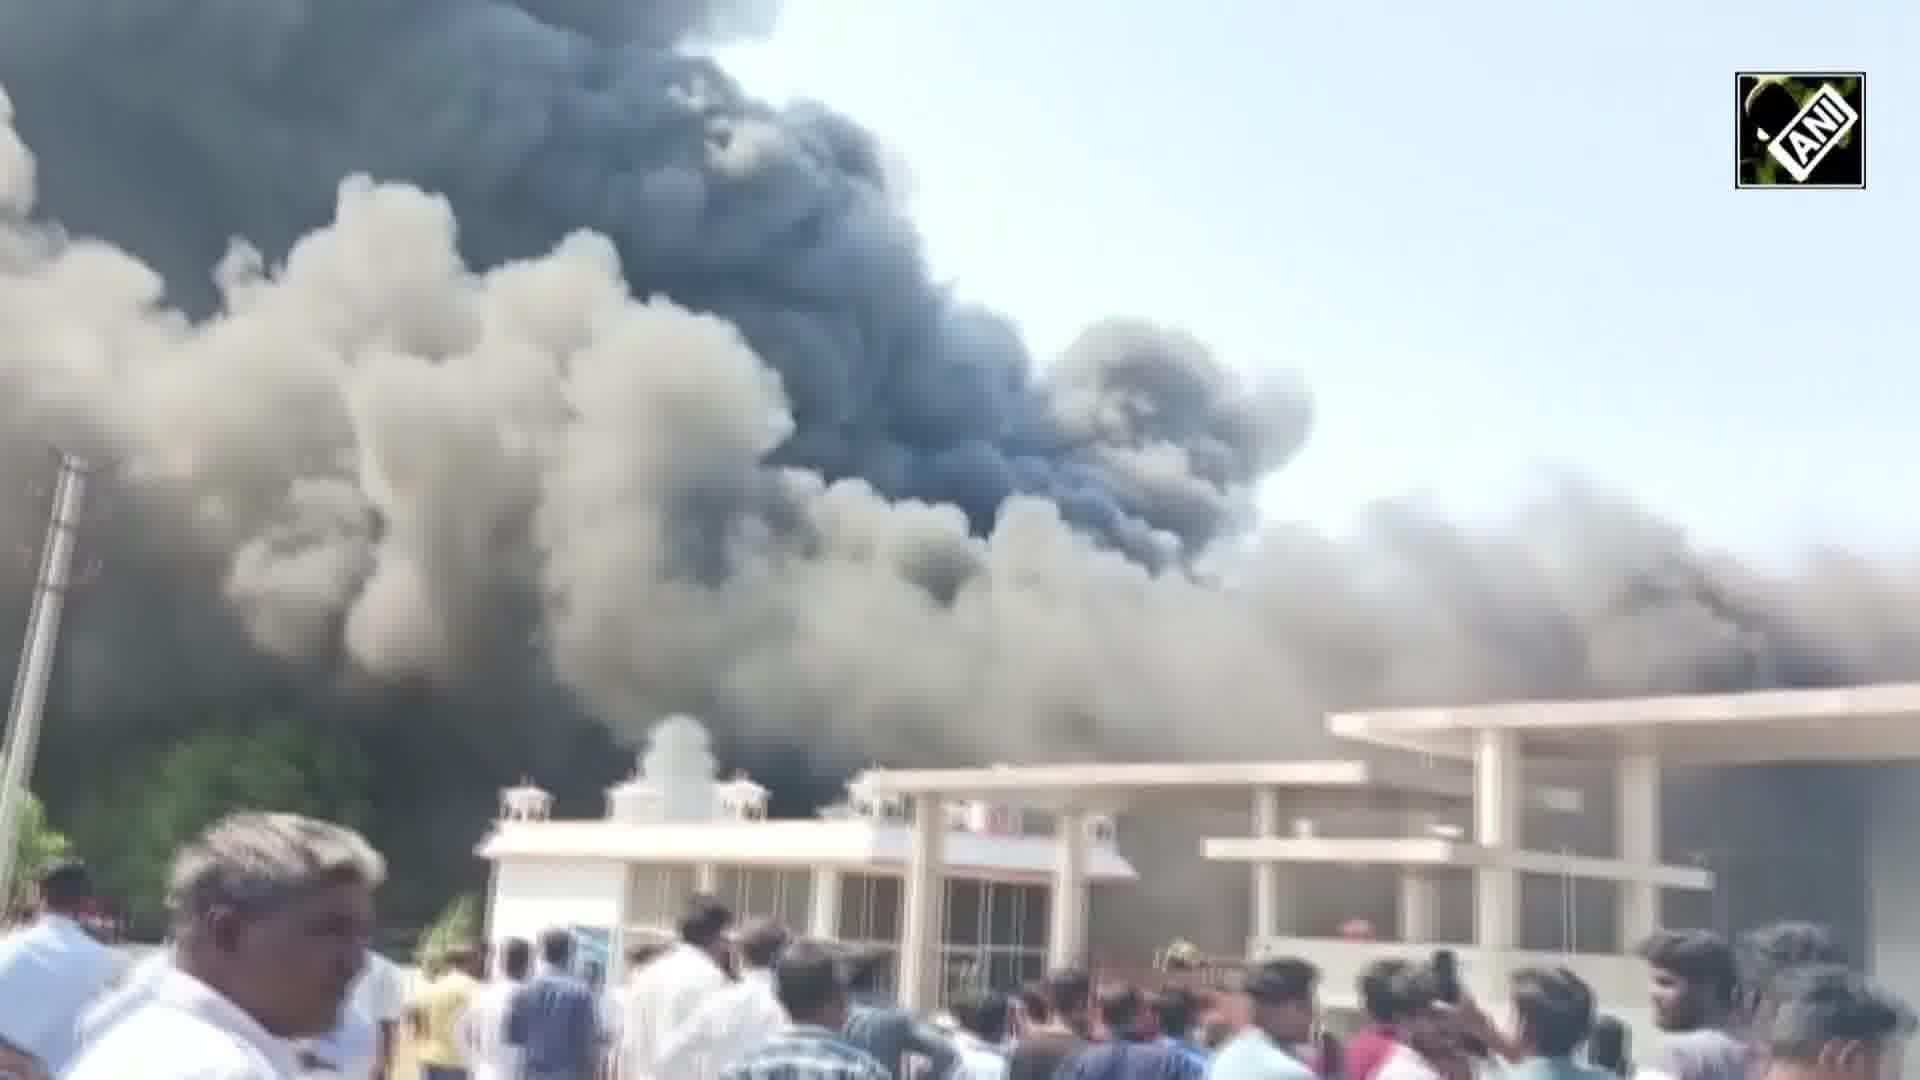smoke: (26, 42, 775, 696), (851, 488, 1506, 750)
